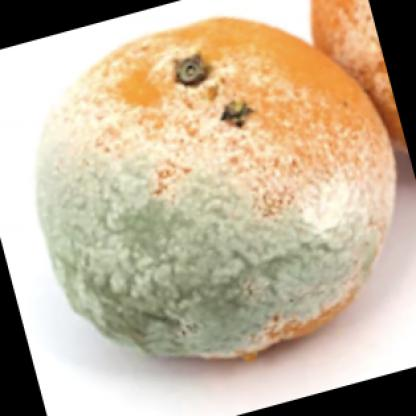rotten_orange: (37, 15, 397, 366)
